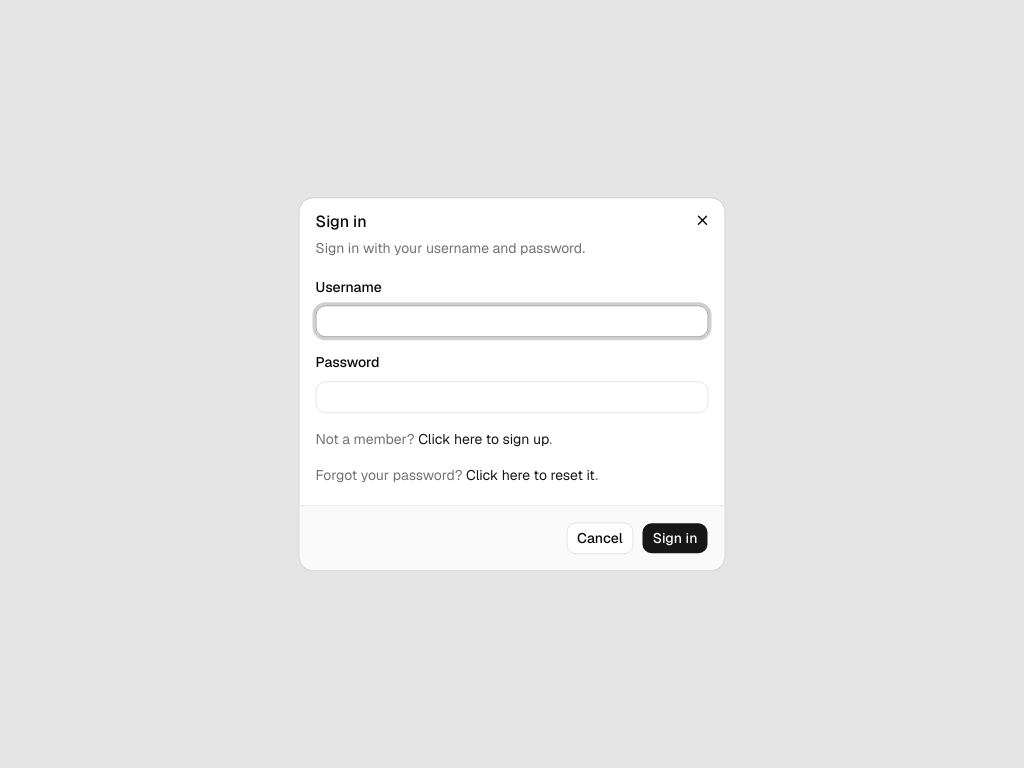
Test: SignInDialog › shows the server-returned error message and keeps the dialog open
This screenshot has width=1024, height=768.
In the field labelled "Username": coordinates (512, 322) [316,306,708,338], type "ashketchum"
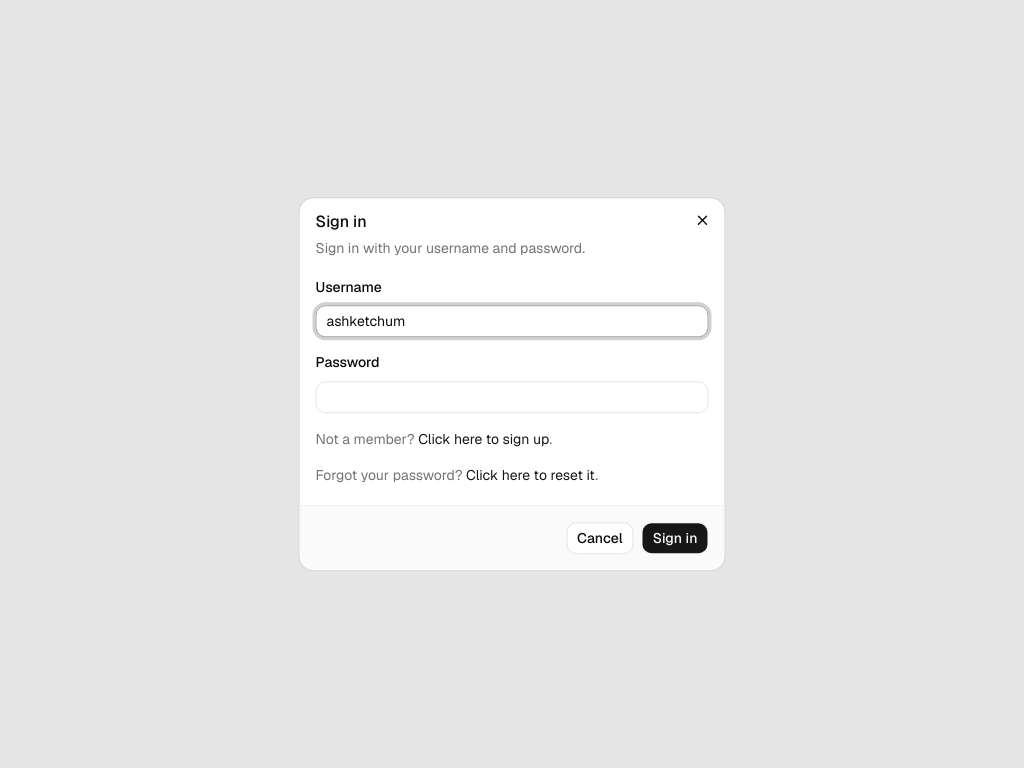
In the password field labelled "Password": coordinates (512, 397) [316,381,708,413], type "Pa$$word1"
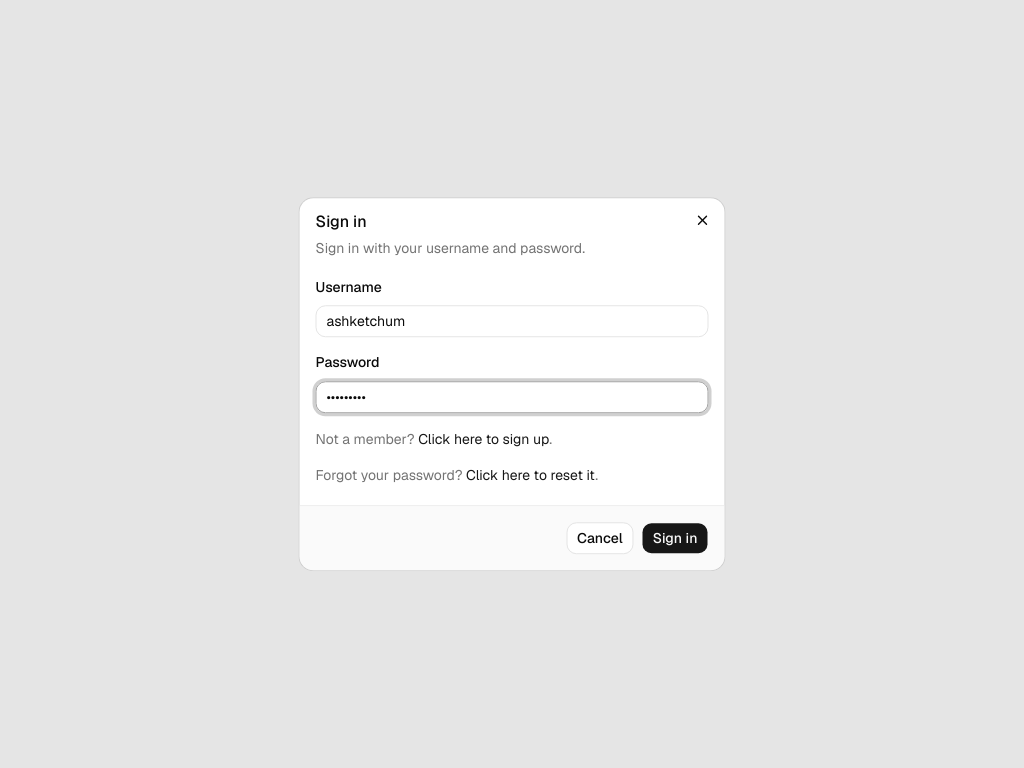
Click the button "Sign in": coordinates (675, 538) [642,522,708,554]
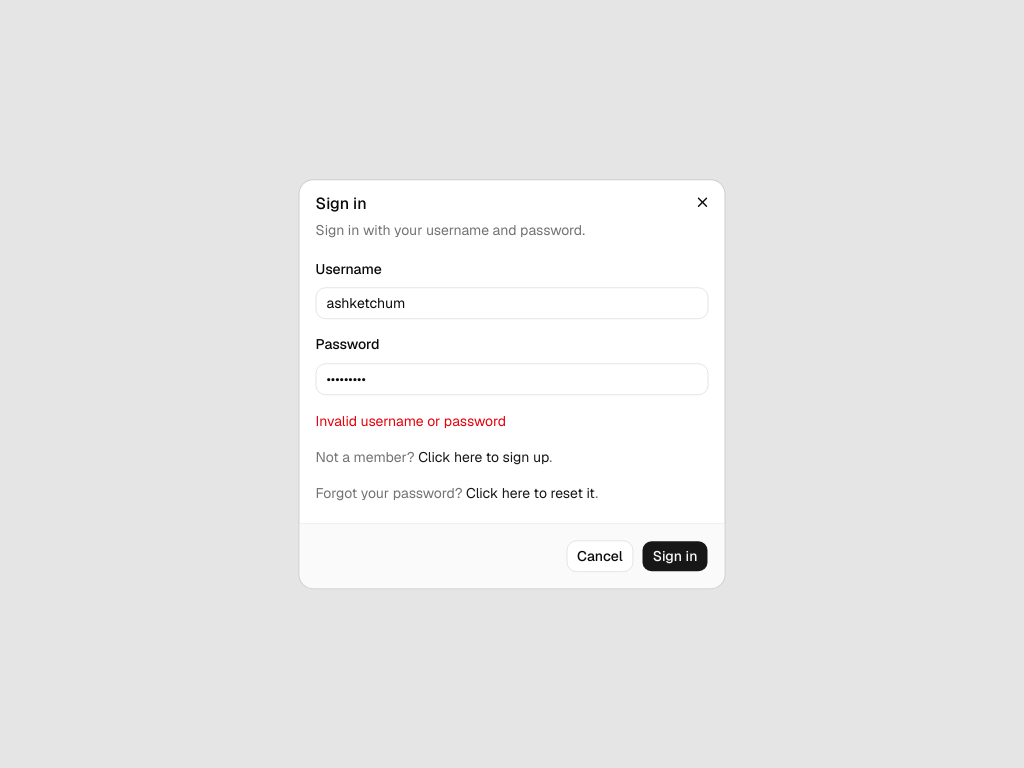
Now the text "Invalid username or password" is shown, box [316,412,506,430]
